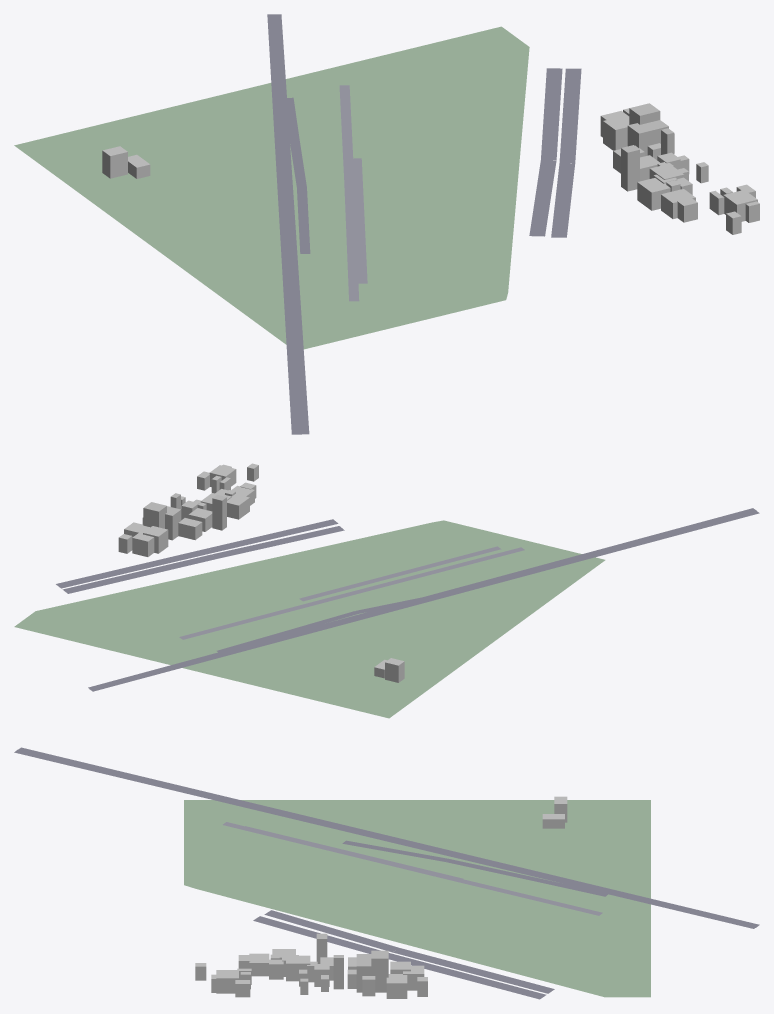
Rendered from 132_83_mid.glb.
3 renders of one model, top to bottom at view 1: azimuth 30°, elevation 25°; view 2: azimuth 150°, elevation 25°; view 3: azimuth 270°, elevation 25°, orthographic. The views are drawn at different scales.
Bounding box in the file's own units: 618 × 41.86 × 799.
